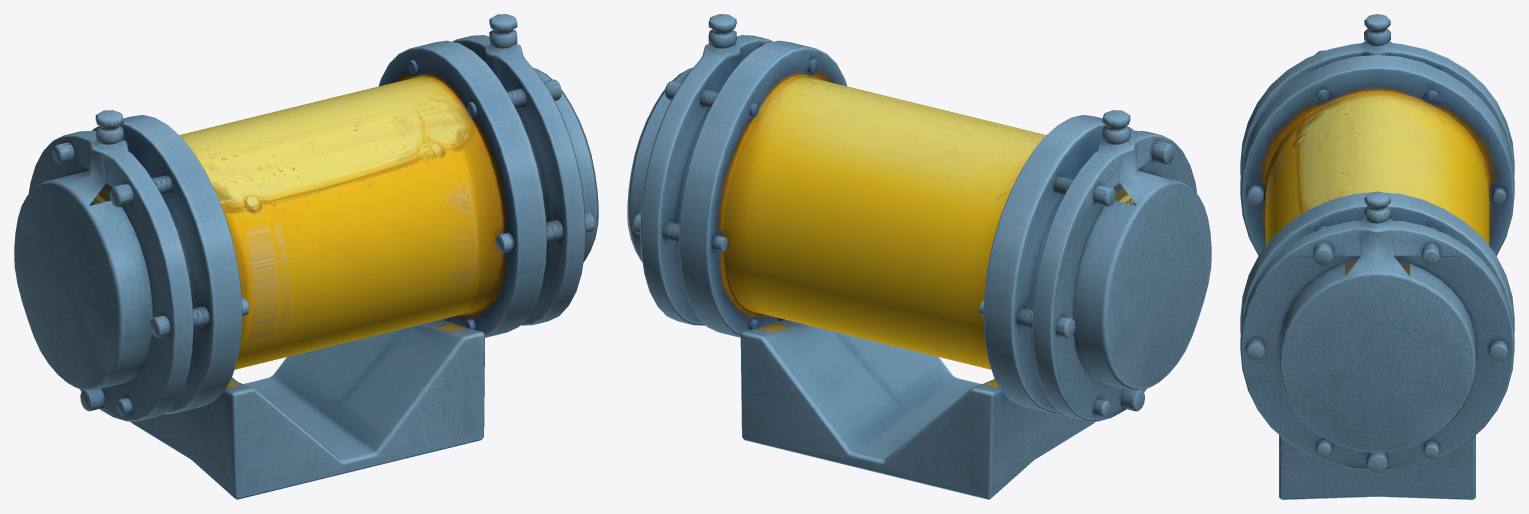
The model's file is Modelo_Compuesto.glb.
The picture shows the model from 3 angles, left to right: view 1: azimuth 30°, elevation 25°; view 2: azimuth 150°, elevation 25°; view 3: azimuth 270°, elevation 25°; orthographic projection. The views are drawn at different scales.
Parts seen in each view (by area): view 1: tripo_node_9ad184e8-150d-4c2c-9499-b9502e0acf7b; view 2: tripo_node_9ad184e8-150d-4c2c-9499-b9502e0acf7b; view 3: tripo_node_9ad184e8-150d-4c2c-9499-b9502e0acf7b.
Part boxes in pixels (x1,y1,x2,y2): tripo_node_9ad184e8-150d-4c2c-9499-b9502e0acf7b: (14,14,598,499); tripo_node_9ad184e8-150d-4c2c-9499-b9502e0acf7b: (627,14,1211,499); tripo_node_9ad184e8-150d-4c2c-9499-b9502e0acf7b: (1240,14,1514,499).
Bounding box in the file's own units: 1 × 0.7255 × 0.5349.
Materials: 1 (1 with a texture image).
